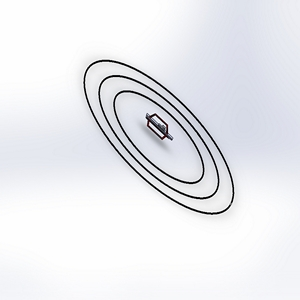circle: (68, 53, 241, 223)
submarine: (139, 109, 177, 148)
